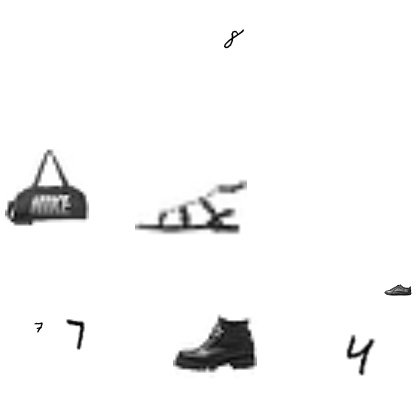4: (331, 325, 387, 381)
7: (56, 309, 98, 351), (32, 319, 46, 333)
8: (218, 24, 246, 52)
Ankle_boot: (173, 303, 257, 387)
Bag: (5, 144, 89, 228)
Sandal: (135, 149, 247, 261)
Sneaker: (384, 276, 412, 304)
